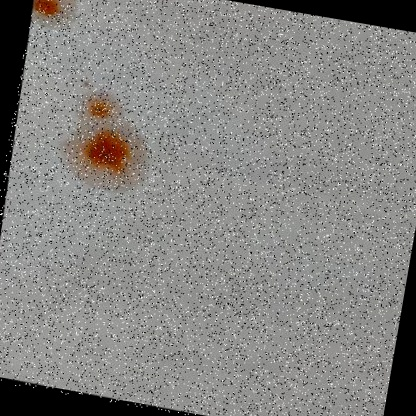kimchi: (66, 94, 141, 188), (30, 0, 72, 22)
